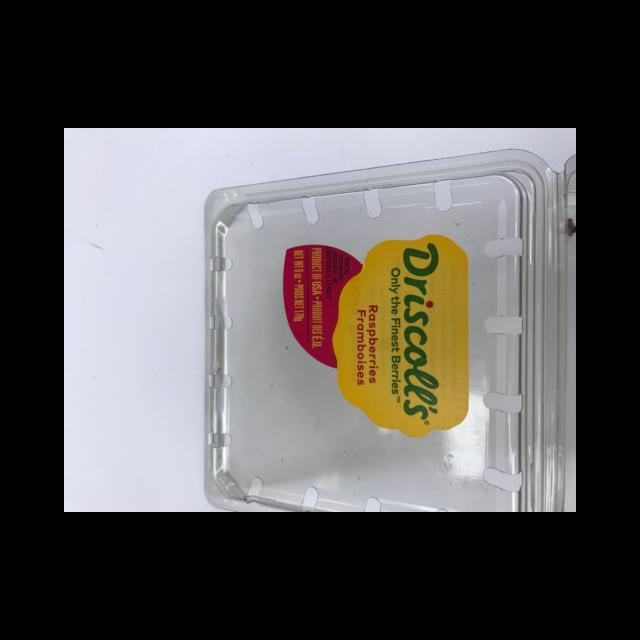plastic: (202, 147, 575, 511)
